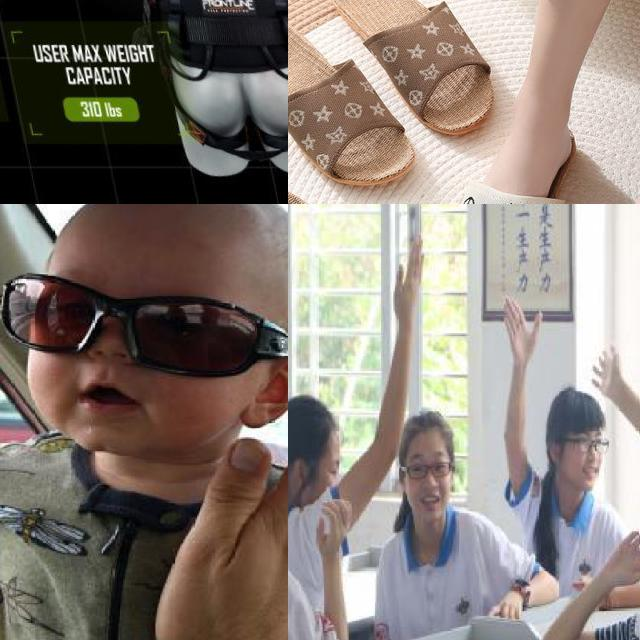No_Ear-Protection: (242, 345, 288, 431)
Sandals: (385, 88, 640, 204)
face_nomask: (32, 268, 195, 457), (402, 448, 453, 518), (564, 434, 607, 488)
glasses: (0, 266, 288, 386), (402, 458, 451, 484), (570, 431, 611, 457)
hand_noglove: (139, 368, 288, 640), (390, 233, 426, 321), (503, 293, 544, 367), (316, 498, 354, 556), (590, 344, 626, 401), (604, 528, 640, 583), (487, 588, 526, 624)
head_nohelmet: (64, 204, 288, 260), (288, 388, 347, 453), (553, 388, 606, 439), (399, 406, 452, 452)
person: (470, 299, 629, 578), (378, 408, 566, 627), (288, 399, 356, 640), (573, 448, 640, 640)
